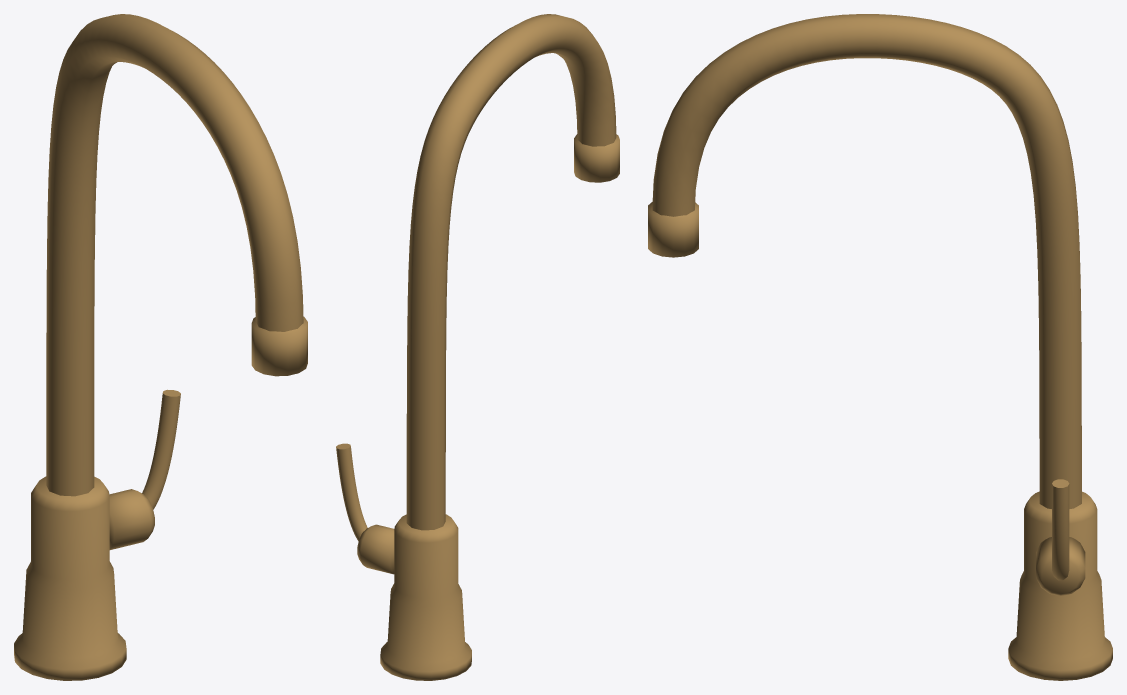
Rendered from a_faucet_goose_2.glb.
3 renders of one model, left to right at view 1: azimuth 30°, elevation 25°; view 2: azimuth 150°, elevation 25°; view 3: azimuth 270°, elevation 25°, orthographic. The views are drawn at different scales.
Parts seen in each view (by area): view 1: o.001, o, o.002, o.003, o.004; view 2: o.001, o, o.002, o.003, o.004; view 3: o.001, o, o.002, o.003, o.004.
Part boxes in pixels (<box>): o.001: <box>46,14,303,496</box>; o: <box>14,476,126,680</box>; o.002: <box>251,316,307,376</box>; o.003: <box>109,489,154,549</box>; o.004: <box>142,389,180,509</box>; o.001: <box>406,14,616,530</box>; o: <box>380,514,471,680</box>; o.002: <box>574,134,619,182</box>; o.003: <box>357,524,394,574</box>; o.004: <box>336,443,367,541</box>; o.001: <box>652,14,1081,508</box>; o: <box>1008,491,1112,680</box>; o.002: <box>648,202,698,257</box>; o.003: <box>1036,537,1085,595</box>; o.004: <box>1052,479,1069,580</box>.
Size of the model in its own units: 0.0873 by 0.3659 by 0.2402.
